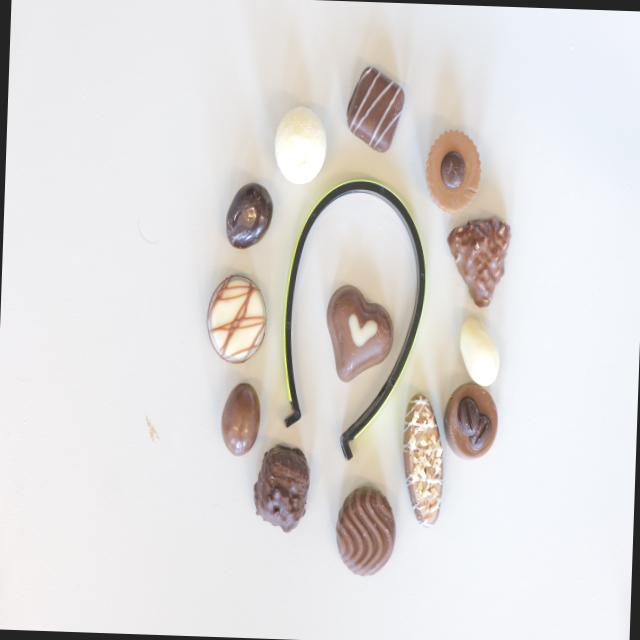Amandina: (399, 392, 446, 529)
Arabia: (444, 382, 499, 459)
Comtesse: (272, 106, 328, 185)
Creme_brulee: (204, 272, 268, 364)
Jelly_Black: (224, 182, 274, 253)
Jelly_Milk: (218, 381, 262, 456)
Jelly_White: (458, 314, 503, 388)
Noblesse: (423, 129, 482, 212)
Noir_authentique: (334, 484, 396, 578)
Passion_au_lait: (324, 284, 394, 381)
Stracciatella: (345, 65, 404, 153)
Tentation_noir: (252, 443, 309, 532)
Triangolo: (445, 212, 510, 309)
